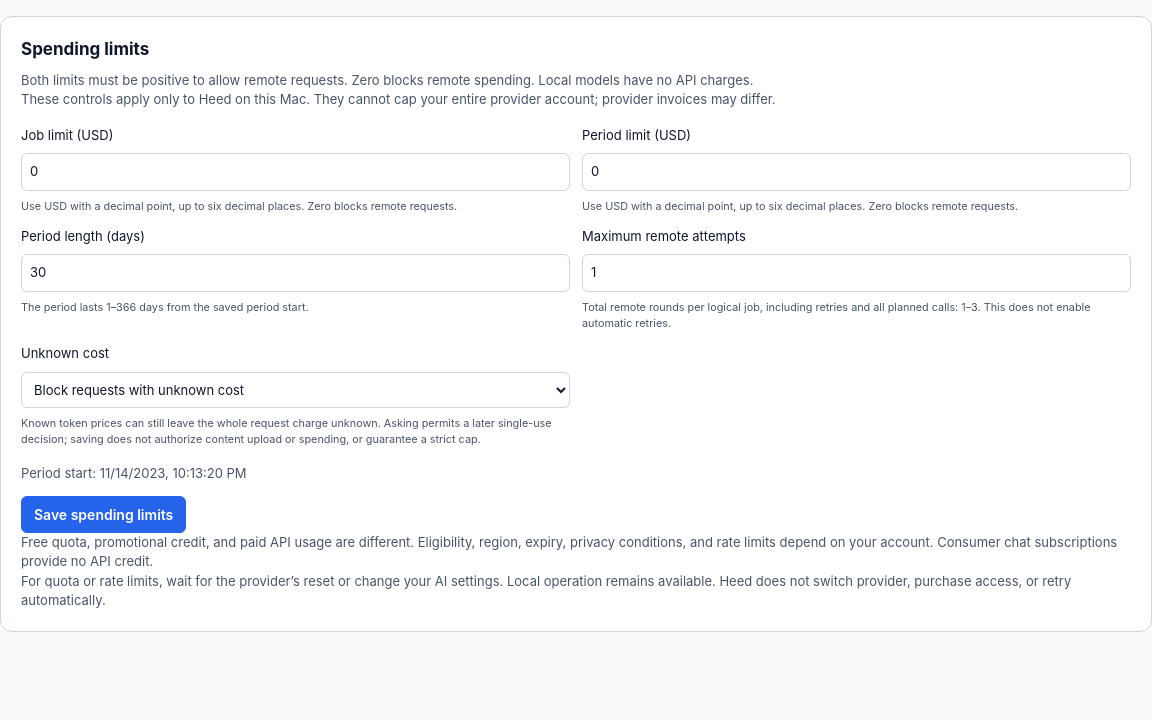
Scenario: saves exact dollars, cumulative rounds and unknown-cost policy without authorizing a request
Replace the text in the field labelled "Job limit (USD)" with "0.000001": x=296, y=172 left=21, top=153, right=570, bottom=190
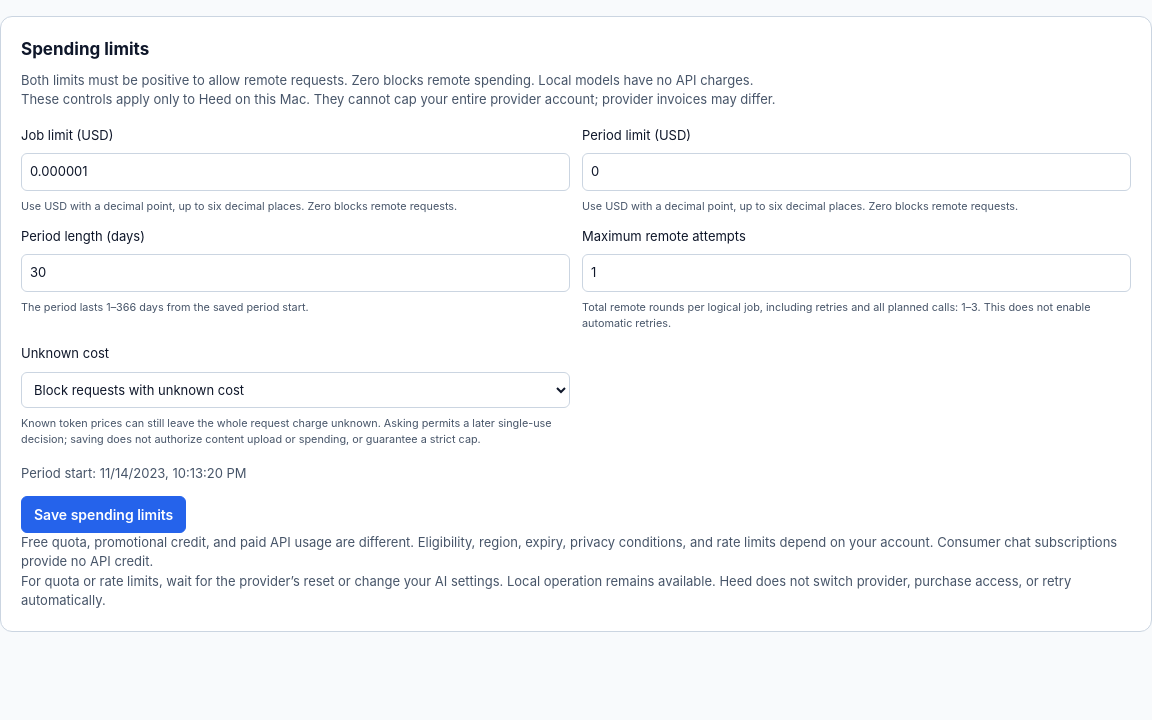
Replace the text in the field labelled "Period limit (USD)" with "9007199254.740991": x=856, y=172 left=582, top=153, right=1131, bottom=190
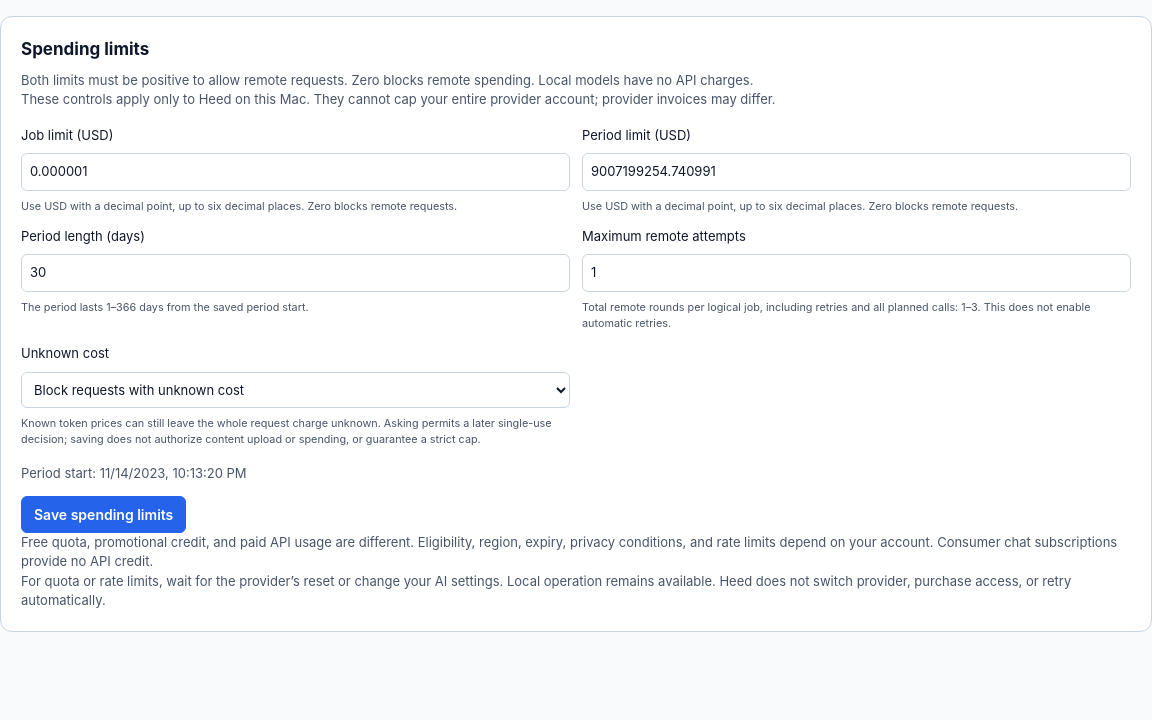
Replace the text in the field labelled "Maximum remote attempts" with "3": x=856, y=273 left=582, top=254, right=1131, bottom=292
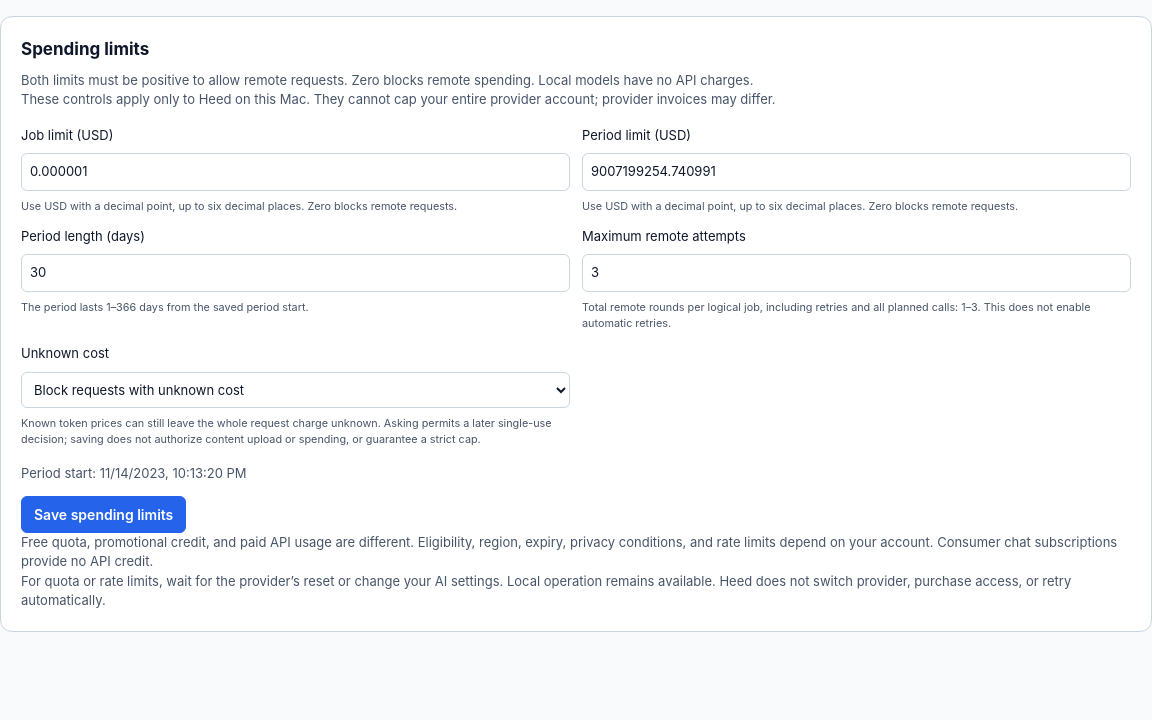
Select "Ask for each request" in the dropdown labelled "Unknown cost": x=296, y=390 left=21, top=372, right=570, bottom=408
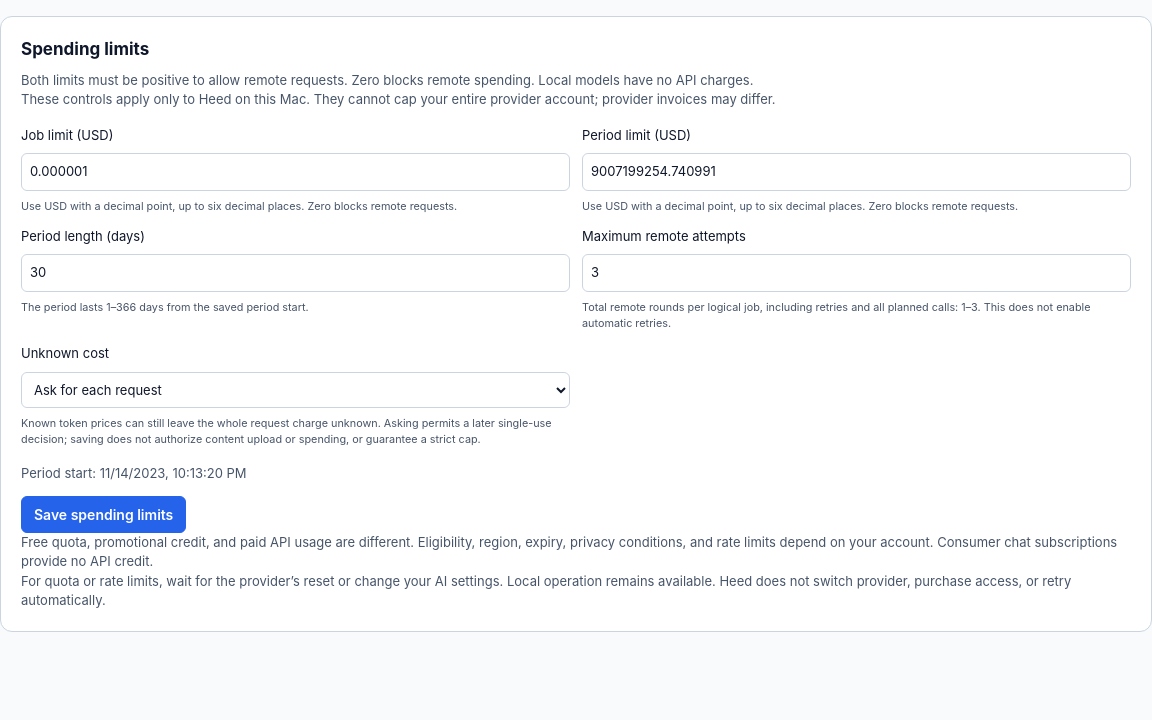
Check: the text "Known token prices can still leave the whole request charge unknown. Asking permits a later single-use decision; saving " is shown, box left=21, top=417, right=552, bottom=446
Click the button "Save spending limits": x=104, y=514 left=21, top=496, right=186, bottom=533
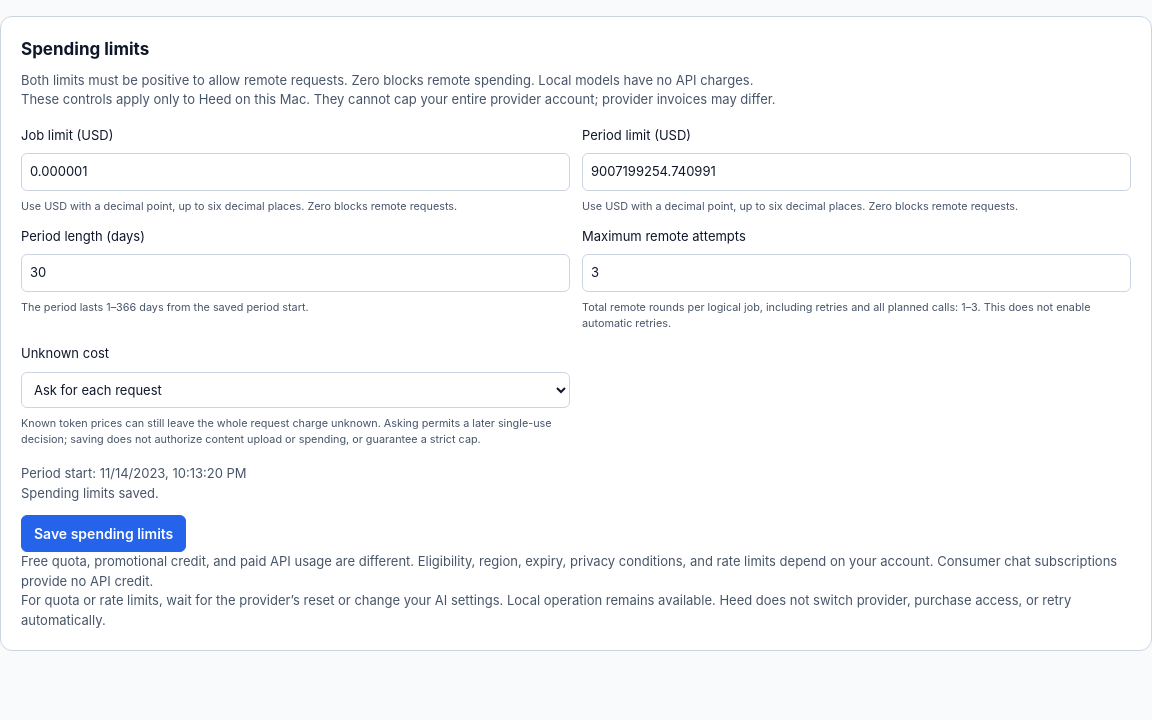
Check: the message "Spending limits saved." is shown, box left=21, top=485, right=159, bottom=501
